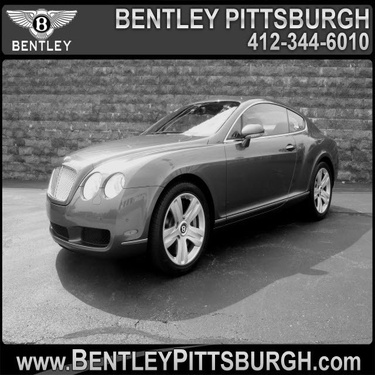car: (36, 86, 343, 281)
